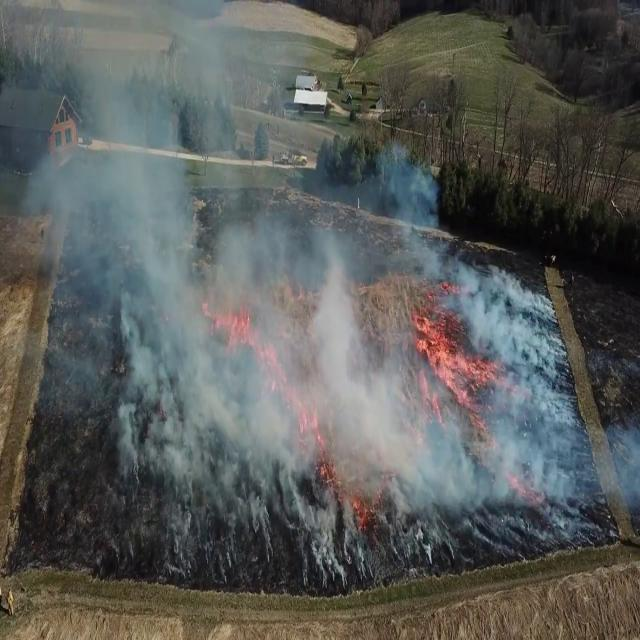Fire: (410, 286, 476, 407)
Smoke: (10, 7, 323, 416), (298, 200, 629, 564)
